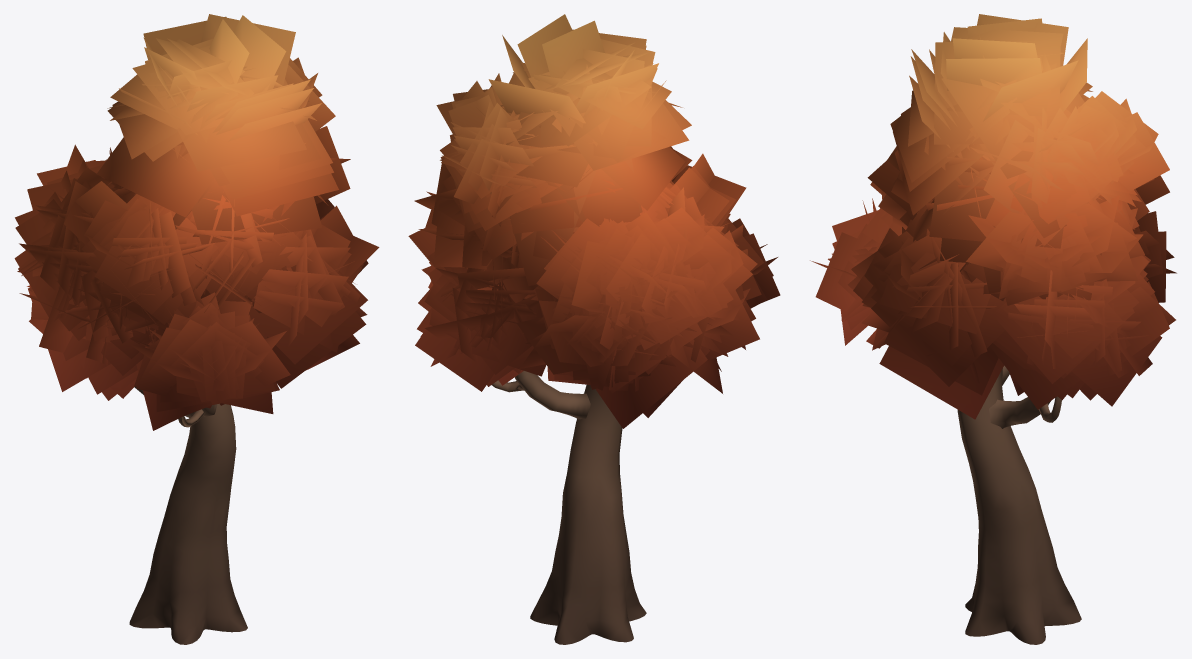
The model's file is q_tree_orange.glb.
3 views of the same model, side by side, from view 1: azimuth 30°, elevation 25°; view 2: azimuth 150°, elevation 25°; view 3: azimuth 270°, elevation 25° (orthographic). The views are drawn at different scales.
Visible parts, largest first — view 1: Leaves, Trunk; view 2: Leaves, Trunk; view 3: Leaves, Trunk.
Part boxes in pixels (x1=…): Leaves: x1=14, y1=14, x2=379, y2=430; Trunk: x1=129, y1=386, x2=247, y2=644; Leaves: x1=408, y1=14, x2=780, y2=428; Trunk: x1=492, y1=371, x2=646, y2=644; Leaves: x1=810, y1=14, x2=1176, y2=419; Trunk: x1=957, y1=365, x2=1081, y2=644.
Bounding box in the file's own units: 2.92 × 5 × 2.8.
